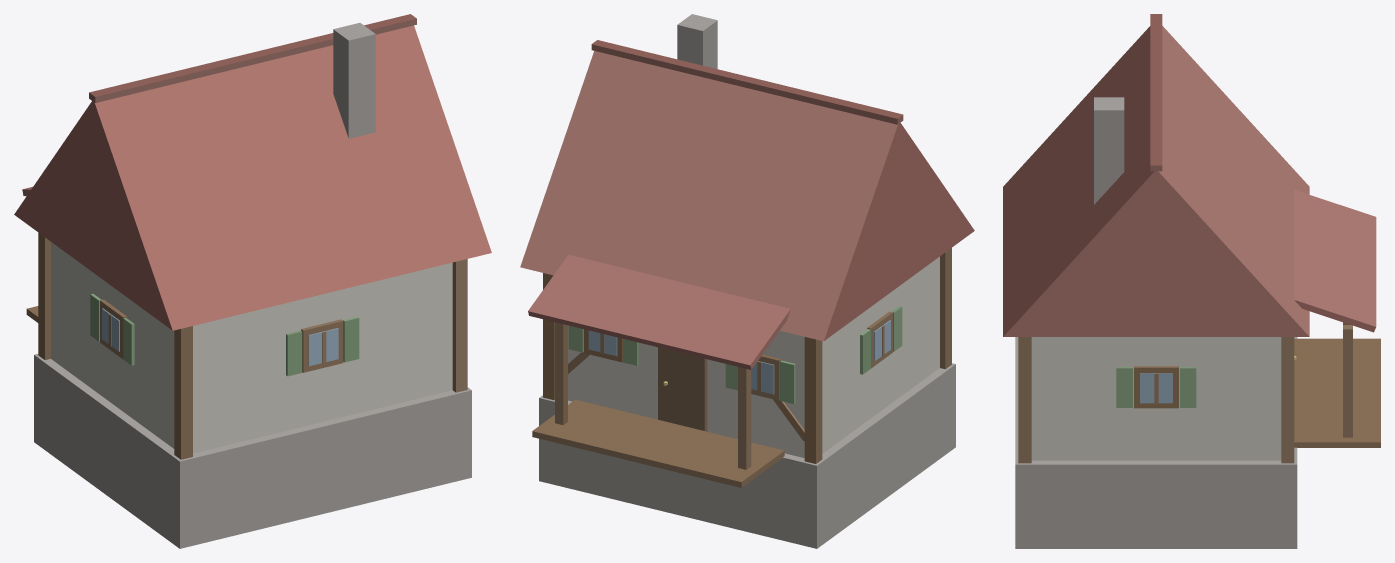
File: house_medium.glb
The picture shows the model from 3 angles, left to right: view 1: azimuth 30°, elevation 25°; view 2: azimuth 150°, elevation 25°; view 3: azimuth 270°, elevation 25°; orthographic projection. The views are drawn at different scales.
Visible parts, largest first — view 1: house_medium2; view 2: house_medium2; view 3: house_medium2.
Part boxes in pixels (x1,y1,x2,y2): house_medium2: (14, 14, 491, 548); house_medium2: (520, 14, 974, 548); house_medium2: (1003, 14, 1380, 548).
Size of the model in its own units: 6.55 by 8.32 by 6.9.
